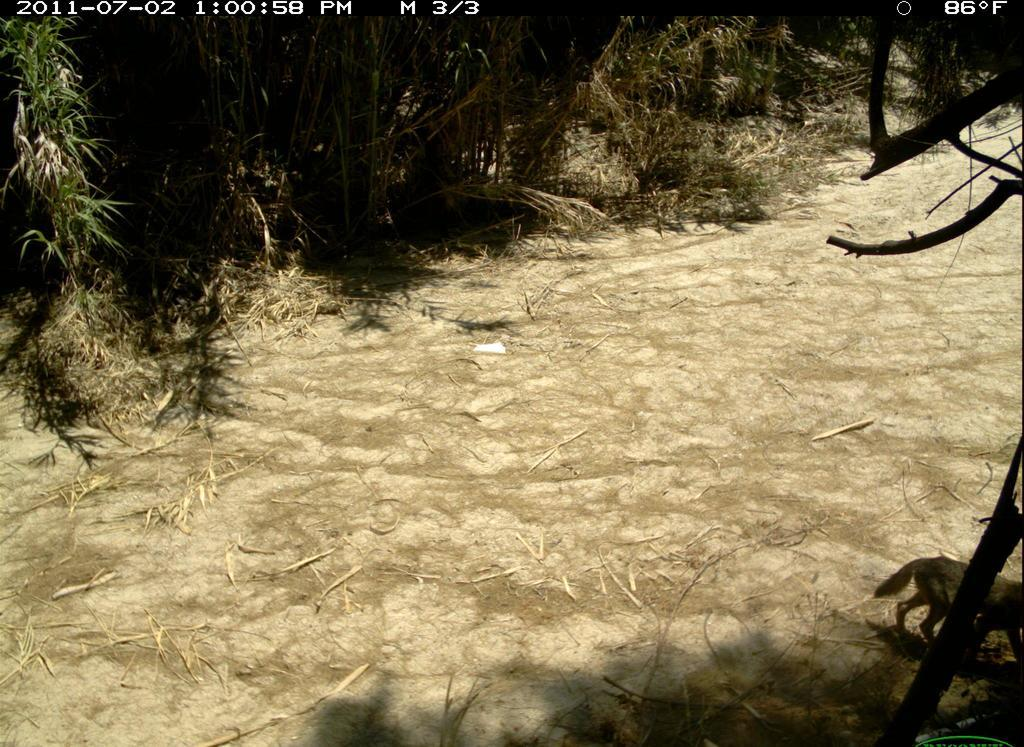coyote: (867, 539, 1024, 681)
